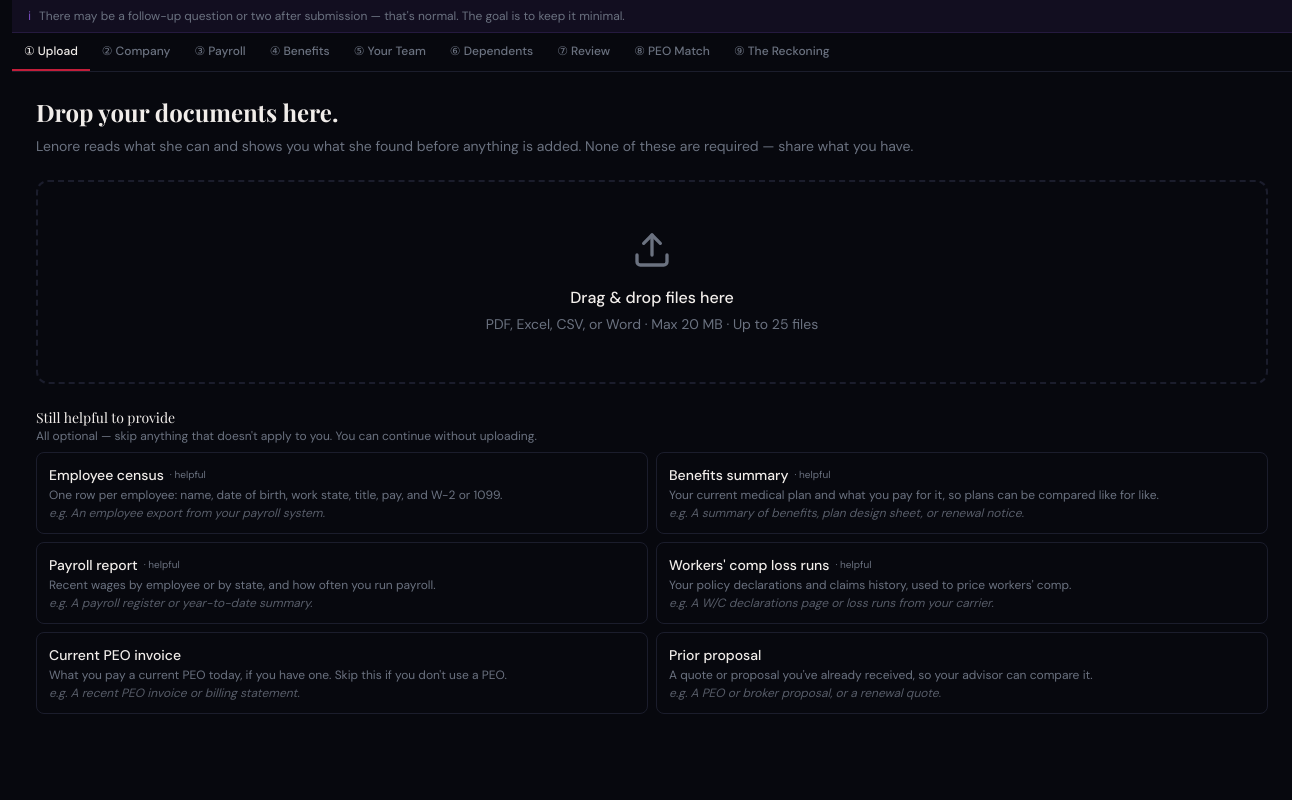
Test: LiveWorkspace › reaches The Reckoning with no PEO chosen without naming or inventing one
This screenshot has width=1292, height=800.
Click the button "⑨ The Reckoning" at (782, 52), box [722, 33, 842, 71]
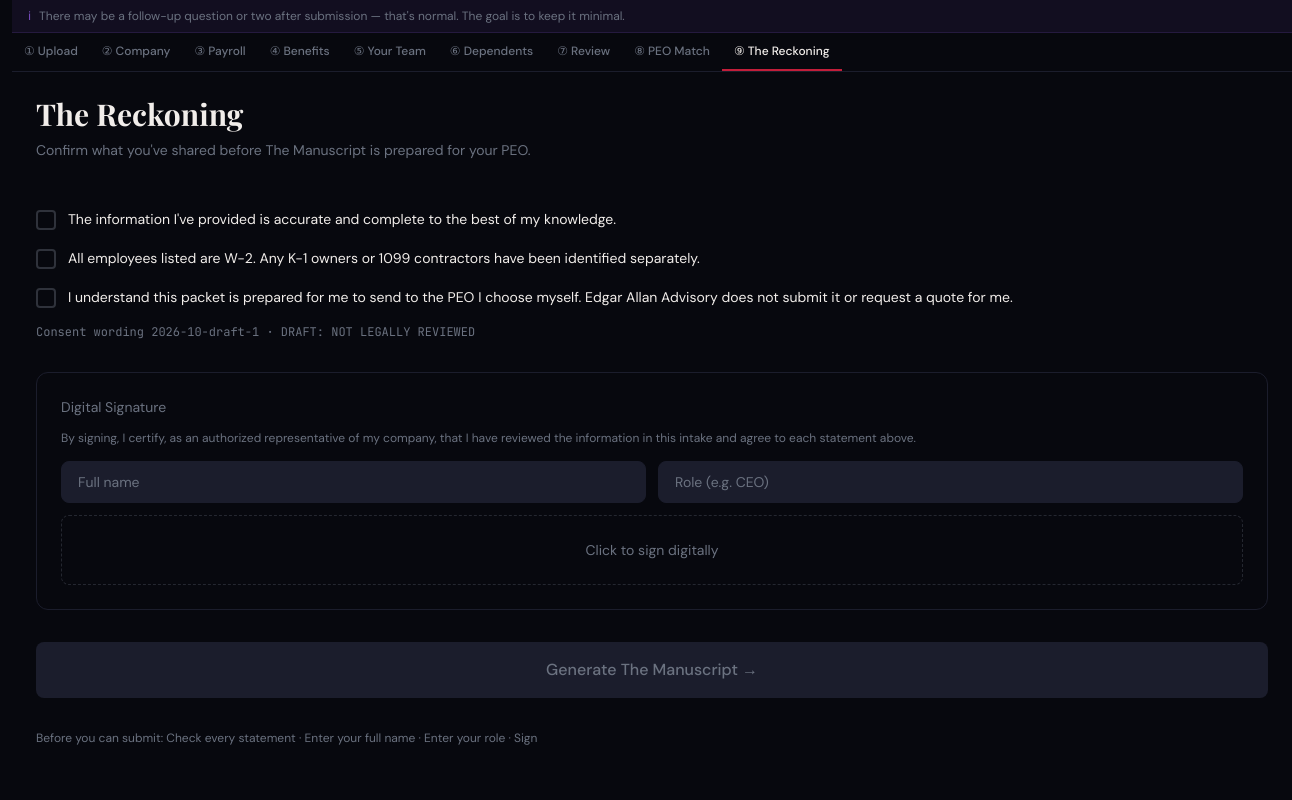
Now the text "prepared for your PEO" is shown, box [36, 141, 531, 159]
Now the text "send to the PEO I choose myself" is shown, box [68, 288, 1013, 306]
